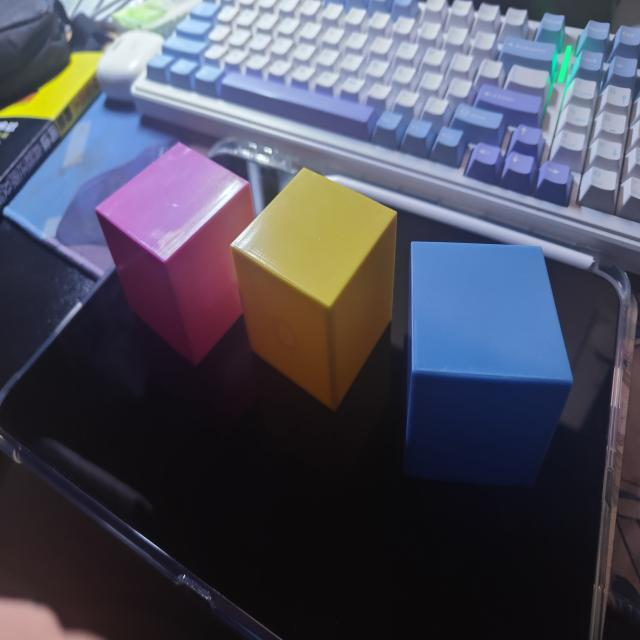blue: (403, 239, 576, 480)
pink: (92, 142, 255, 364)
yellow: (231, 166, 398, 407)
